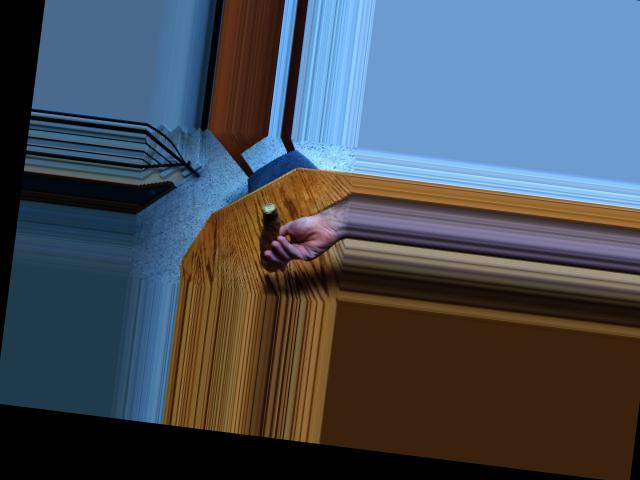sweet_potato: (253, 200, 291, 272)
